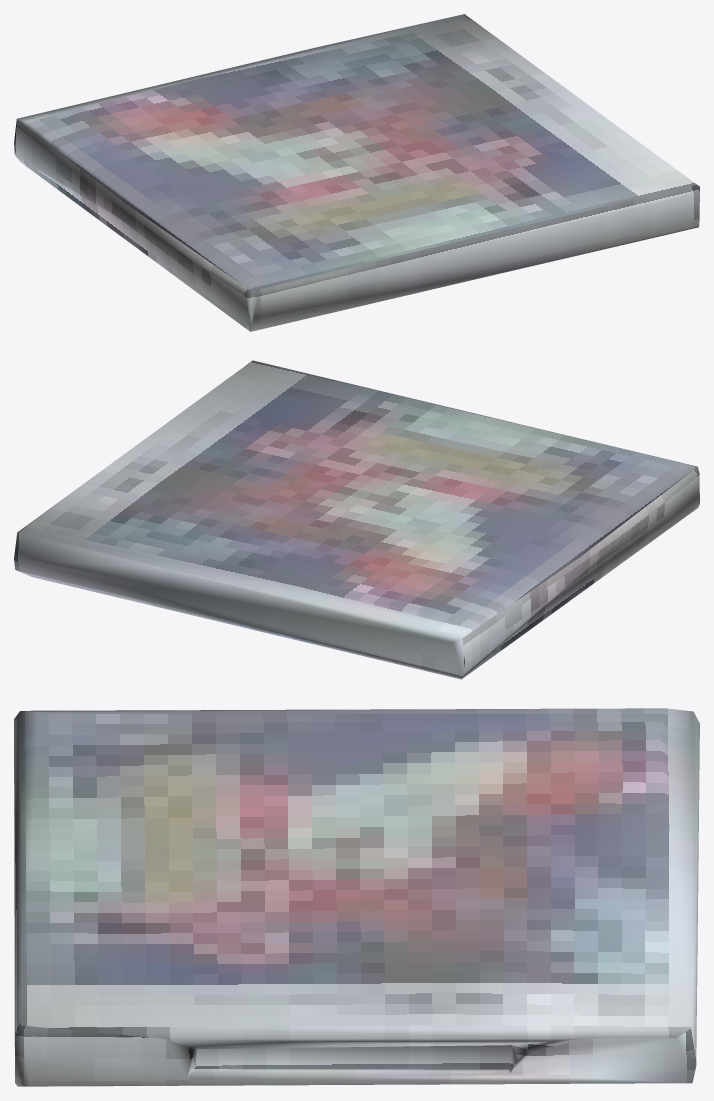
File: Pokmon_Y_Nintendo_3DS_Game-low.glb
3 views of the same model, one above another, from view 1: azimuth 30°, elevation 25°; view 2: azimuth 150°, elevation 25°; view 3: azimuth 270°, elevation 25° (orthographic). The views are drawn at different scales.
Visible parts, largest first — view 1: Pokmon_Y_Nintendo_3DS_Game; view 2: Pokmon_Y_Nintendo_3DS_Game; view 3: Pokmon_Y_Nintendo_3DS_Game.
Boxes of the visible parts, box(x1,y1,x2,y2) form: Pokmon_Y_Nintendo_3DS_Game: box(14, 14, 699, 331); Pokmon_Y_Nintendo_3DS_Game: box(14, 360, 699, 679); Pokmon_Y_Nintendo_3DS_Game: box(14, 708, 699, 1086).
Bounding box in the file's own units: 0.137 × 0.0154 × 0.1244.
1 material, 1 textured.
